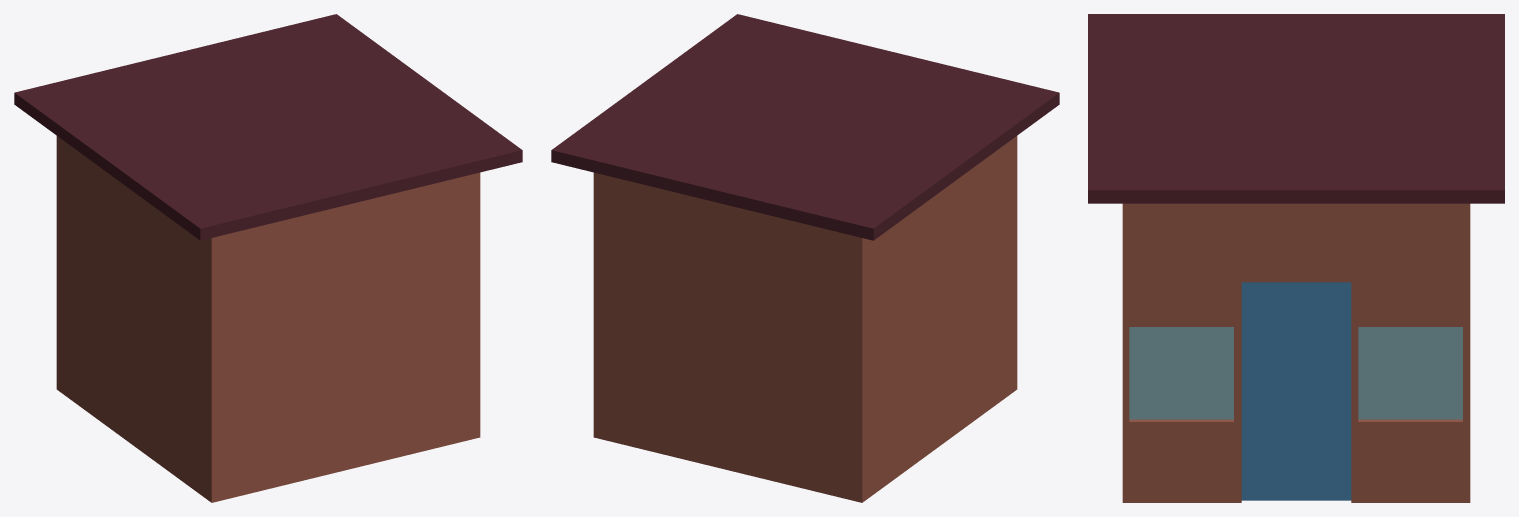
File: shop.glb
3 renders of one model, left to right at view 1: azimuth 30°, elevation 25°; view 2: azimuth 150°, elevation 25°; view 3: azimuth 270°, elevation 25°, orthographic. The views are drawn at different scales.
Visible parts, largest first — view 1: house_base.001; view 2: house_base.001; view 3: house_base.001.
Boxes of the visible parts, left/top/right/bottom form: house_base.001: left=14, top=14, right=522, bottom=502; house_base.001: left=551, top=14, right=1059, bottom=502; house_base.001: left=1088, top=14, right=1504, bottom=502.
Size of the model in its own units: 3.6 by 3.12 by 3.6.
